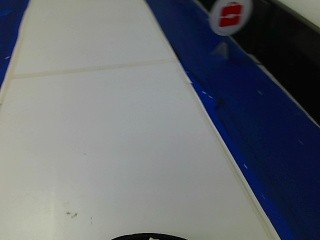company: (206, 0, 252, 37)
